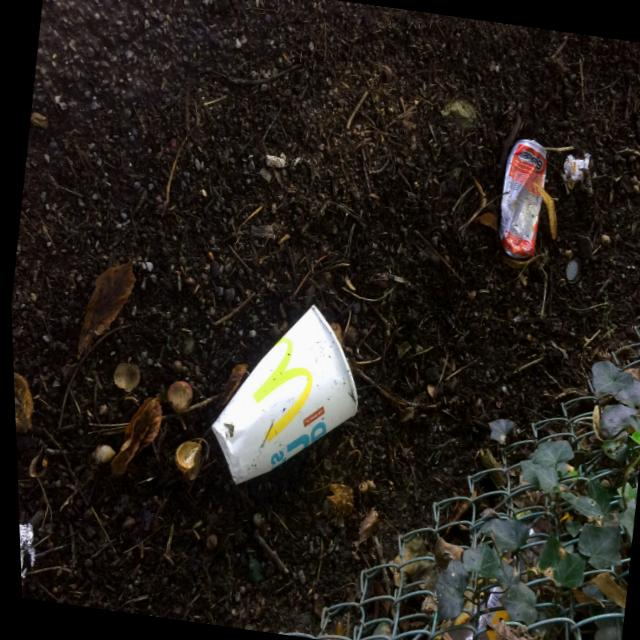Can-Metal: (480, 133, 556, 270), (14, 493, 52, 601)
Cup: (184, 278, 388, 516)
Paper: (555, 147, 590, 196)
